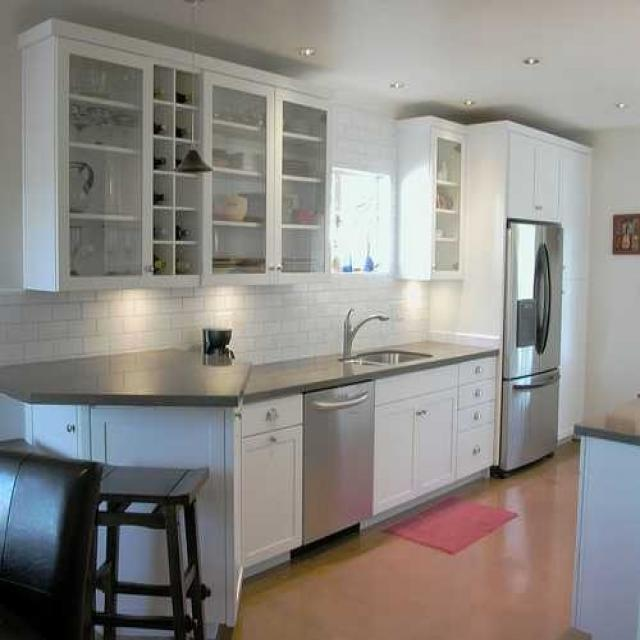refrigerator: (499, 230, 564, 474)
